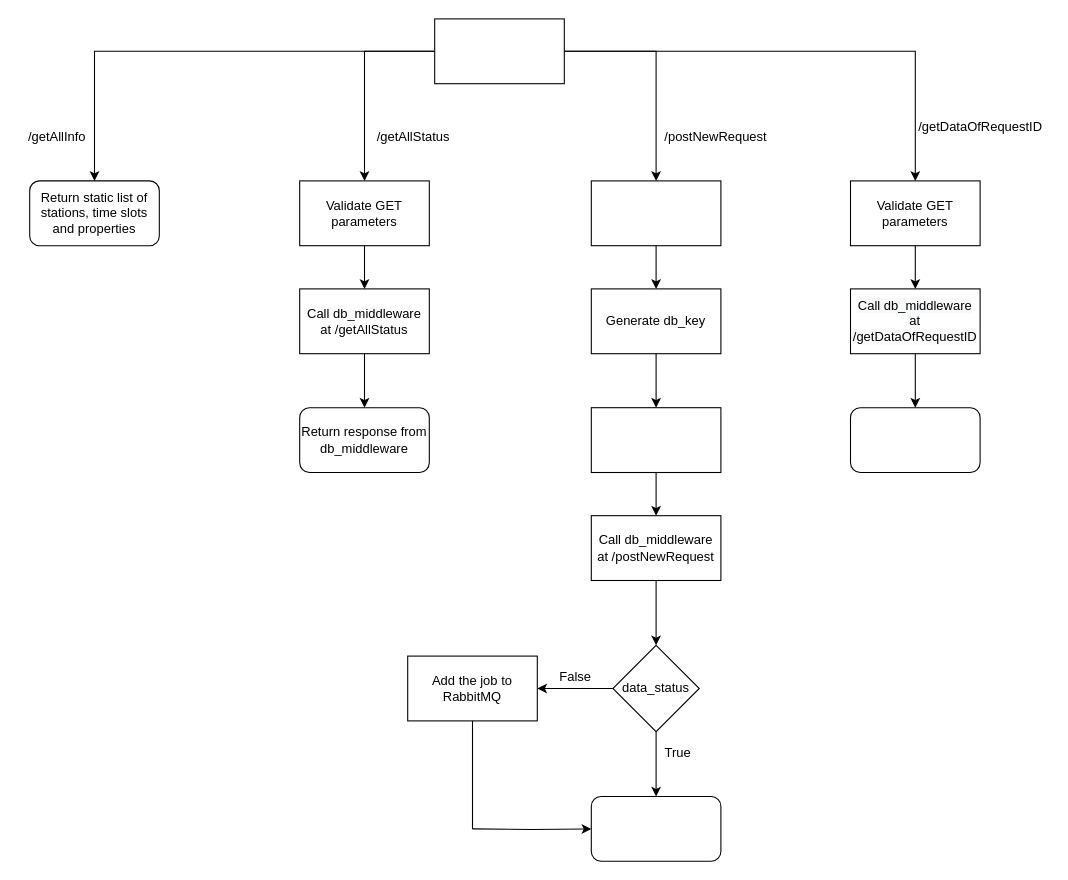
Image size: 1068x880. Some labels were removed from this diagram. The shapes that lost their labels are listed below. From the top down, each one's centre as x and y in pixels, then its label:
At pixel 499 51: "UI request".
At pixel 655 213: "Validate POST parameters".
At pixel 655 440: "Call db_middleware at /postCheckRequest".
At pixel 914 440: "Return response with data".
At pixel 655 828: "Return response and data".
